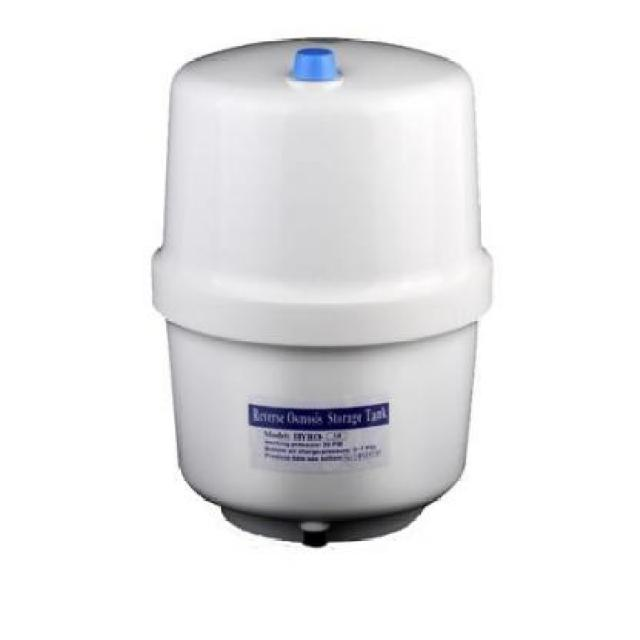coolerbottle: (148, 32, 504, 551)
